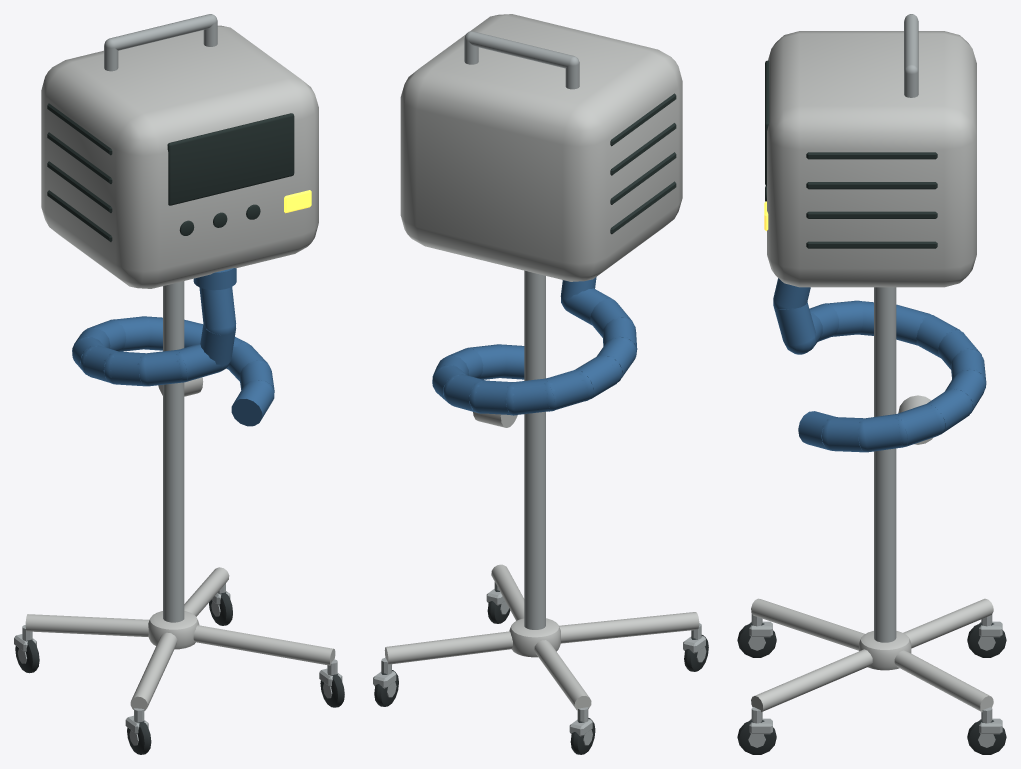
Rendered from sc-forced-air-warmer.glb.
The picture shows the model from 3 angles, left to right: view 1: azimuth 30°, elevation 25°; view 2: azimuth 150°, elevation 25°; view 3: azimuth 270°, elevation 25°; orthographic projection. The views are drawn at different scales.
Parts seen in each view (by area): view 1: sc-forced-air-warmer; view 2: sc-forced-air-warmer; view 3: sc-forced-air-warmer.
Part boxes in pixels (x1,y1,x2,y2): sc-forced-air-warmer: (14, 14, 344, 754); sc-forced-air-warmer: (373, 14, 708, 754); sc-forced-air-warmer: (737, 14, 1006, 754).
Size of the model in its own units: 0.3747 by 1.12 by 0.41.
